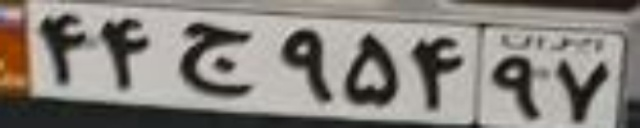4: (406, 37, 465, 109), (96, 16, 152, 89), (37, 12, 86, 85)
5: (342, 31, 400, 104)
7: (554, 57, 607, 125)
9: (280, 27, 333, 101), (492, 56, 547, 119)
jim: (174, 22, 254, 95)
